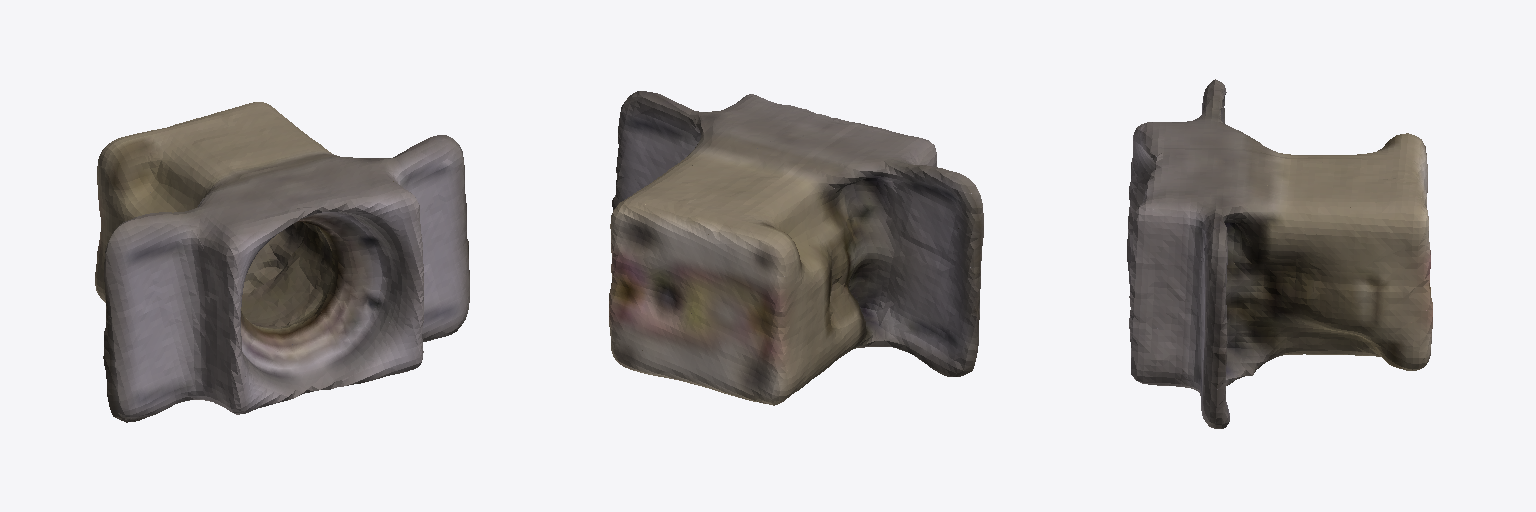
The picture shows the model from 3 angles: view 1: azimuth 30°, elevation 25°; view 2: azimuth 150°, elevation 25°; view 3: azimuth 270°, elevation 25°; orthographic projection.
Size of the model in its own units: 82.92 by 45.67 by 60.05.
Materials: 1 (1 with a texture image).